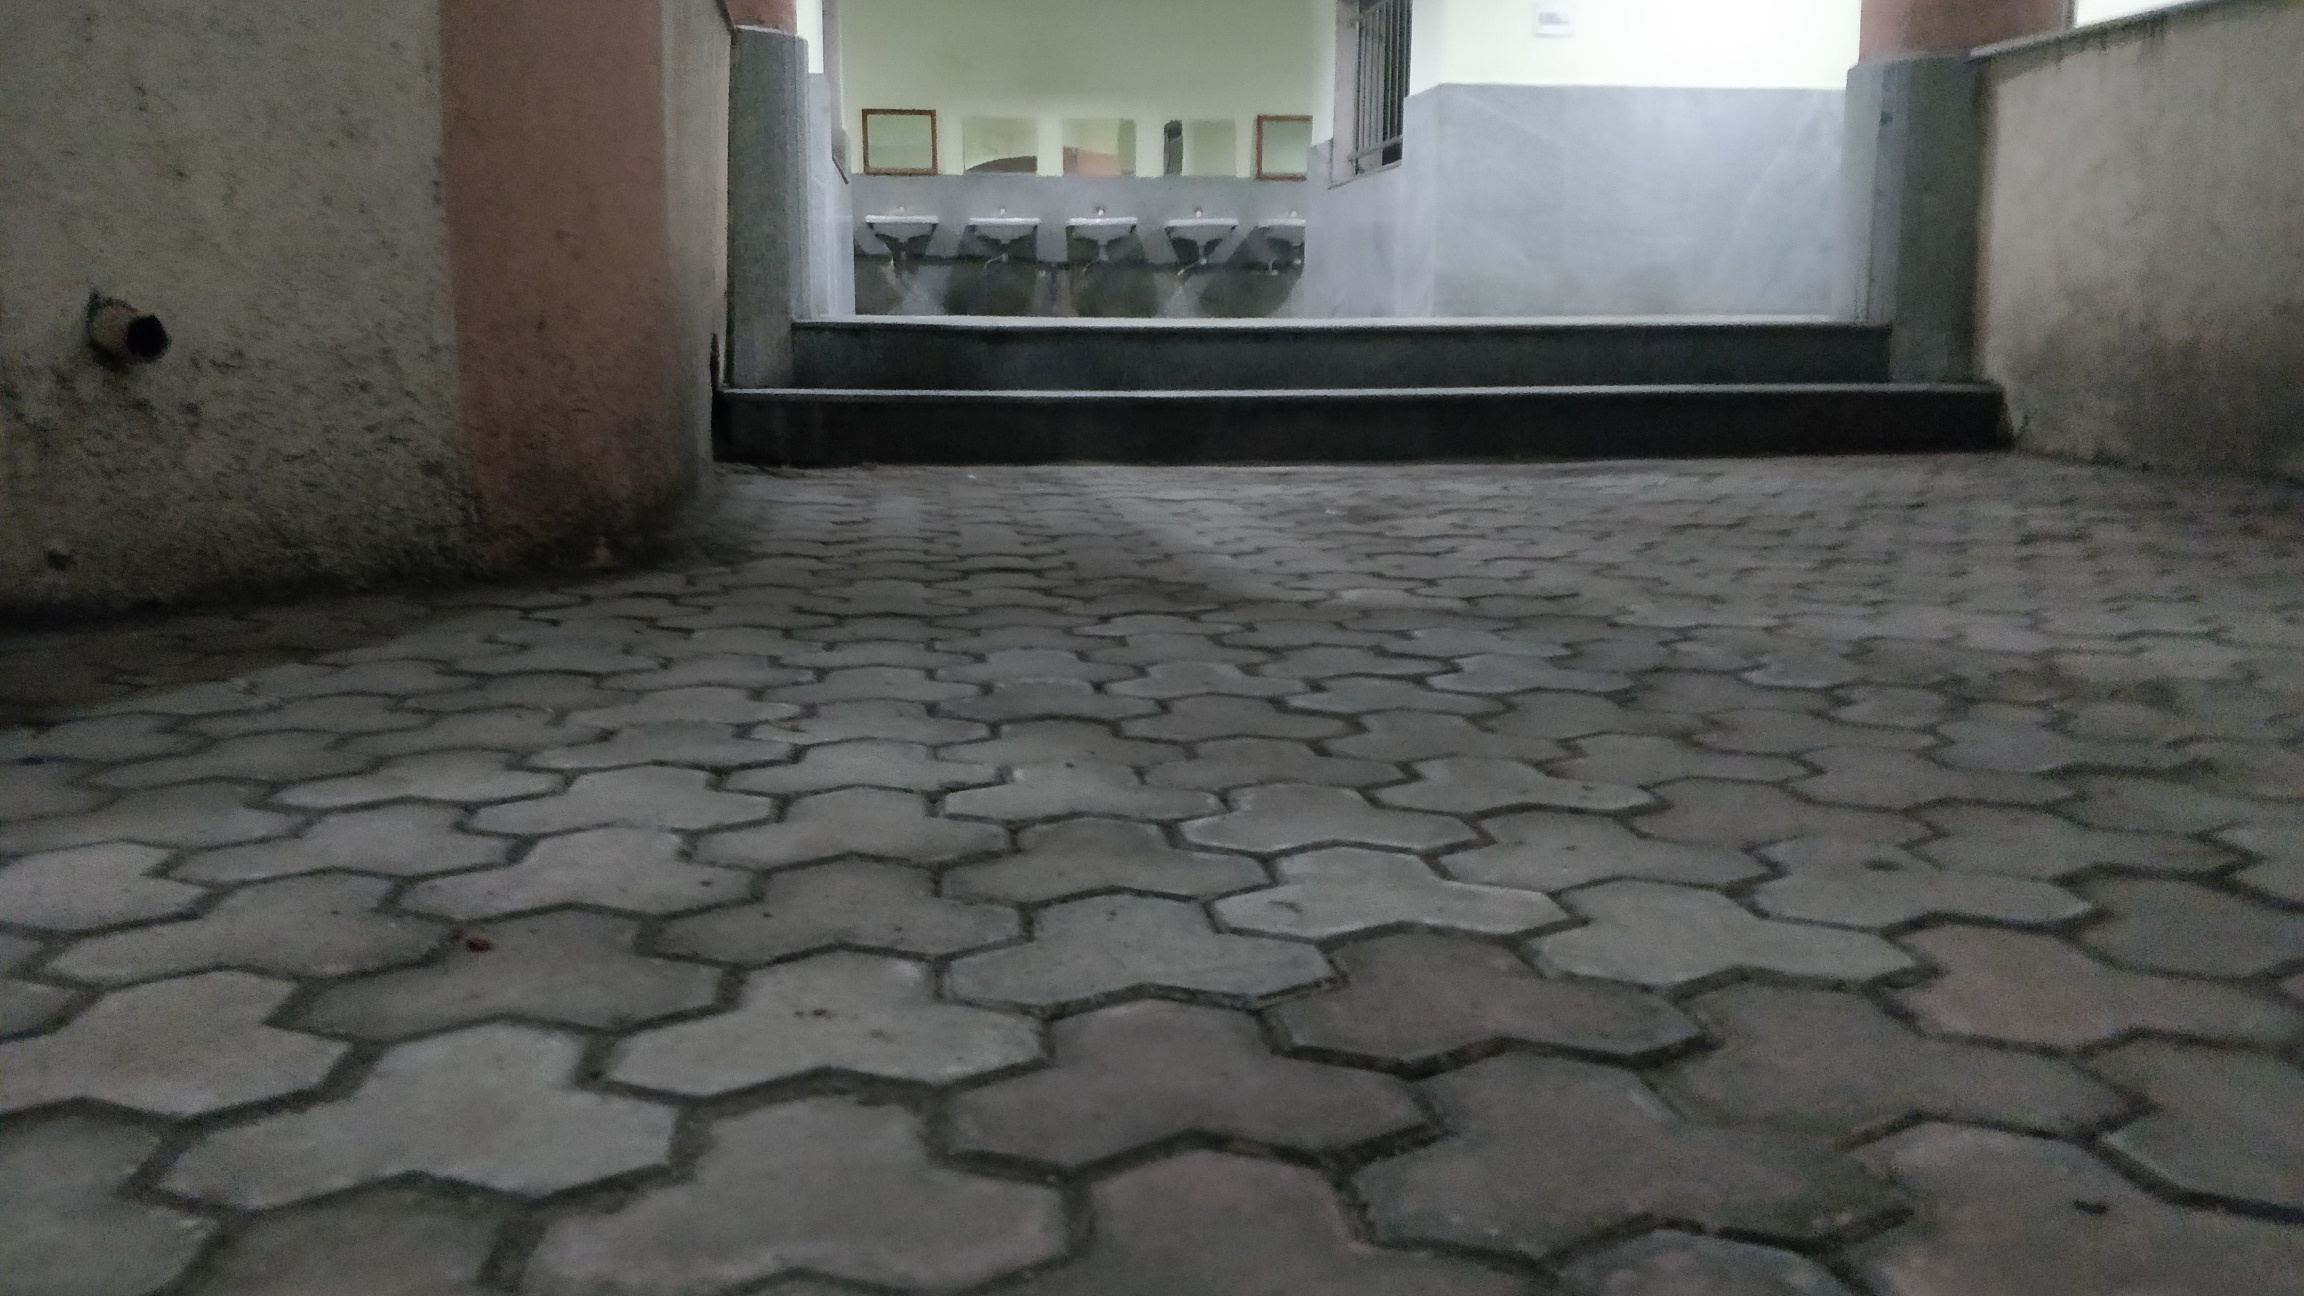stairs_up: (707, 316, 2005, 453)
